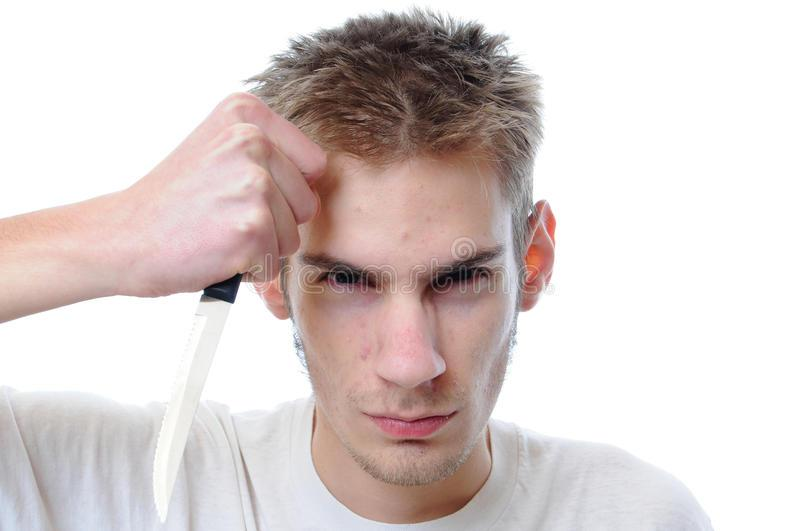criminal: (0, 6, 717, 531)
weapon: (146, 269, 245, 526)
